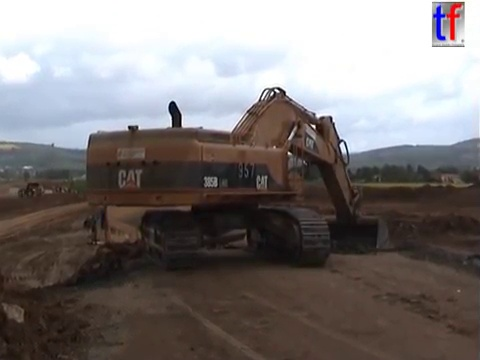excavator: (81, 84, 398, 270)
truck: (82, 200, 247, 276), (16, 181, 46, 199)
